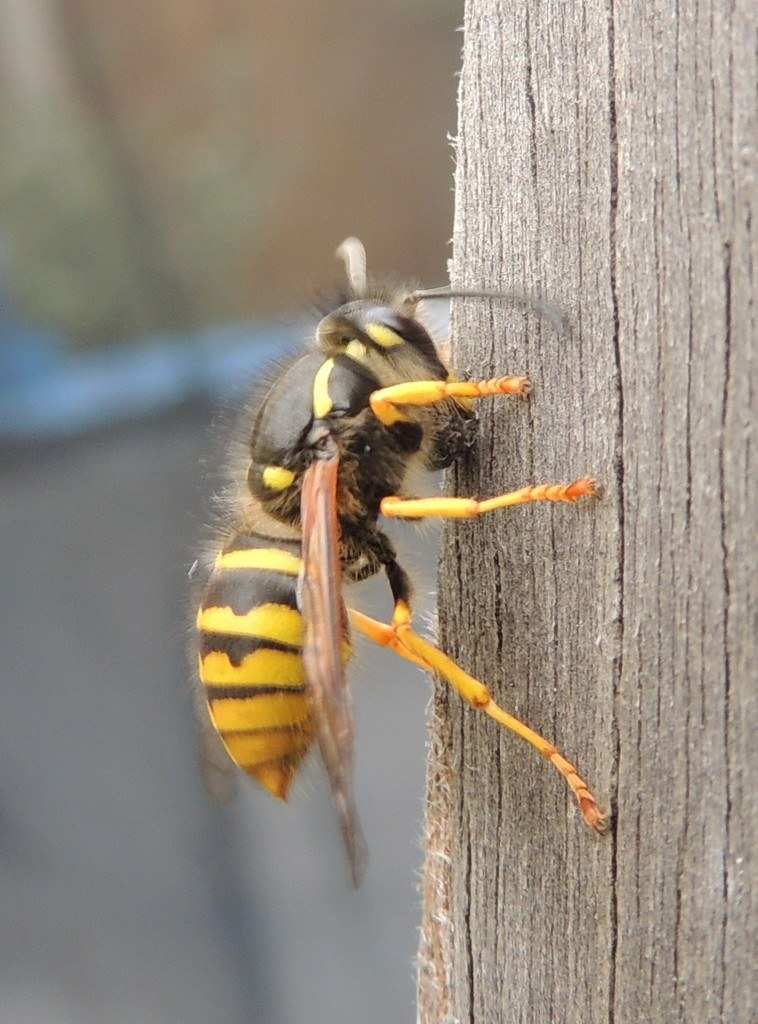bee: (156, 230, 600, 884)
